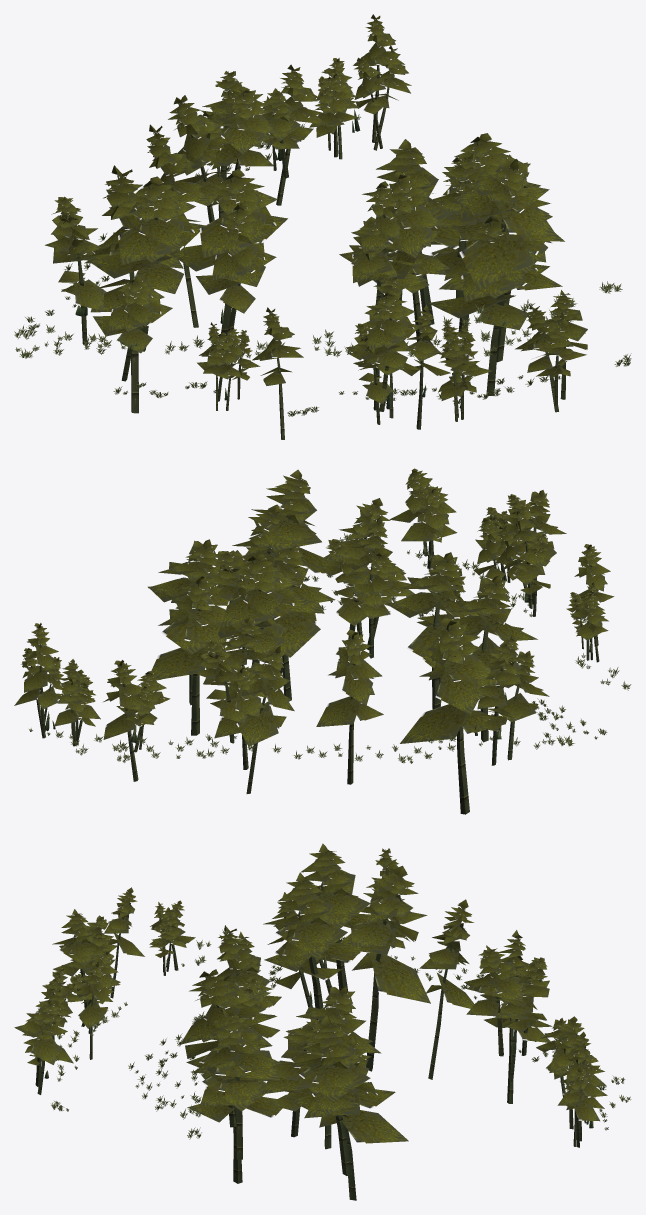
File: tree05.fbx
3 renders of one model, top to bottom at view 1: azimuth 30°, elevation 25°; view 2: azimuth 150°, elevation 25°; view 3: azimuth 270°, elevation 25°, orthographic. The views are drawn at different scales.
Parts seen in each view (by area): view 1: tree05; view 2: tree05; view 3: tree05.
Part boxes in pixels (left/top/right/bottom): tree05: left=14, top=14, right=631, bottom=439; tree05: left=14, top=468, right=631, bottom=814; tree05: left=14, top=843, right=631, bottom=1200.
Size of the model in its own units: 5949 by 2748 by 6942.
